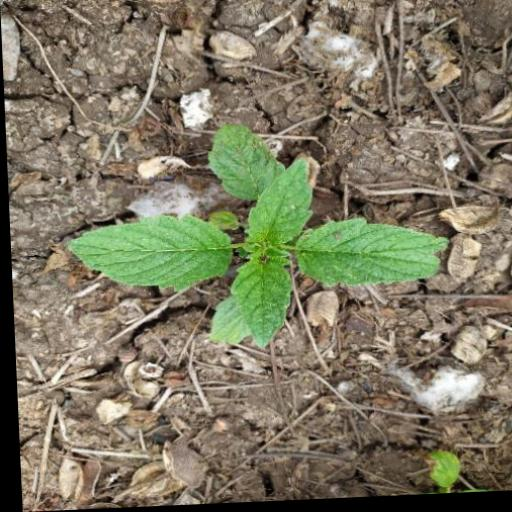crop: (42, 115, 460, 365)
